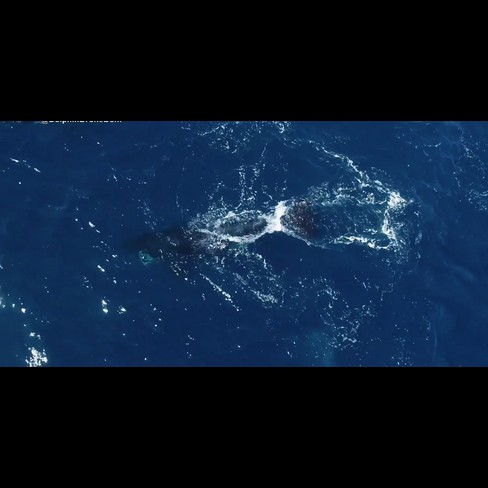orca: (120, 192, 328, 294)
